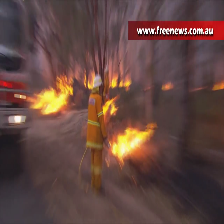fire_h: (109, 124, 157, 164), (32, 75, 76, 115), (103, 94, 121, 116)
fire_l: (83, 71, 95, 89), (119, 78, 133, 88), (211, 81, 224, 90), (111, 74, 118, 88), (162, 82, 173, 90)
